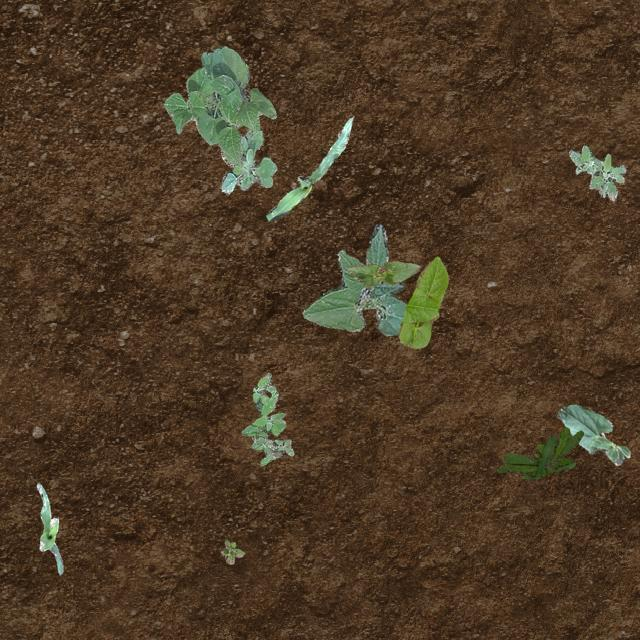crop: (162, 46, 276, 166), (302, 223, 406, 334), (266, 117, 352, 220), (398, 255, 448, 348), (556, 404, 630, 464), (36, 482, 62, 574), (348, 260, 418, 286)
weed: (240, 372, 292, 464), (496, 426, 582, 479), (220, 128, 276, 192), (568, 144, 624, 200), (220, 540, 242, 562)
